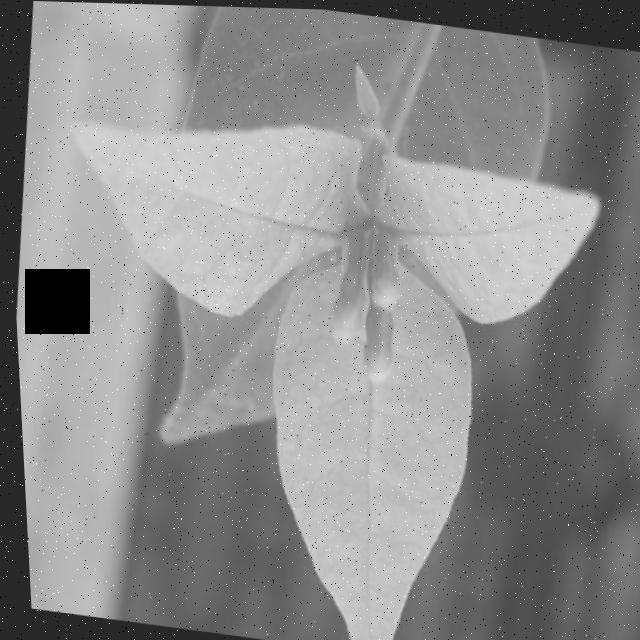bougainvillea: (3, 69, 640, 640)
